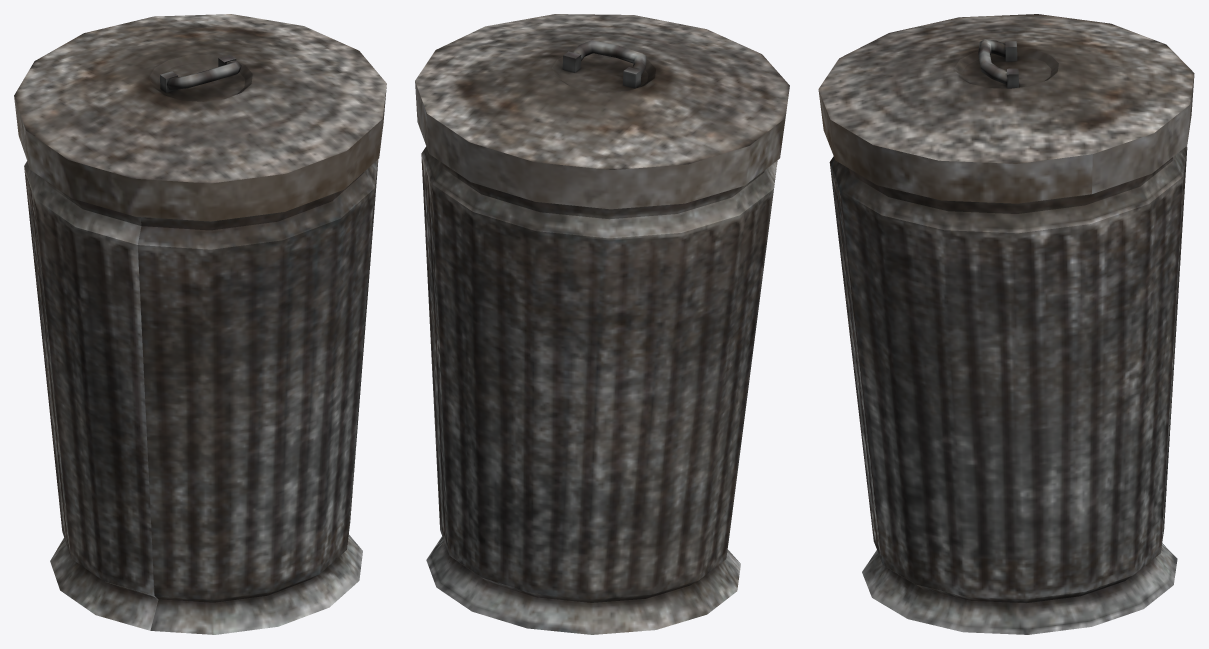
File: cubobasura.fbx
3 views of the same model, side by side, from view 1: azimuth 30°, elevation 25°; view 2: azimuth 150°, elevation 25°; view 3: azimuth 270°, elevation 25° (orthographic).
Visible parts, largest first — view 1: Trash Can; view 2: Trash Can; view 3: Trash Can.
Boxes of the visible parts, bbox=[...] form: Trash Can: bbox=[14, 14, 386, 634]; Trash Can: bbox=[415, 14, 789, 634]; Trash Can: bbox=[818, 14, 1194, 634].
Bounding box in the file's own units: 51.19 × 78.19 × 51.21.
